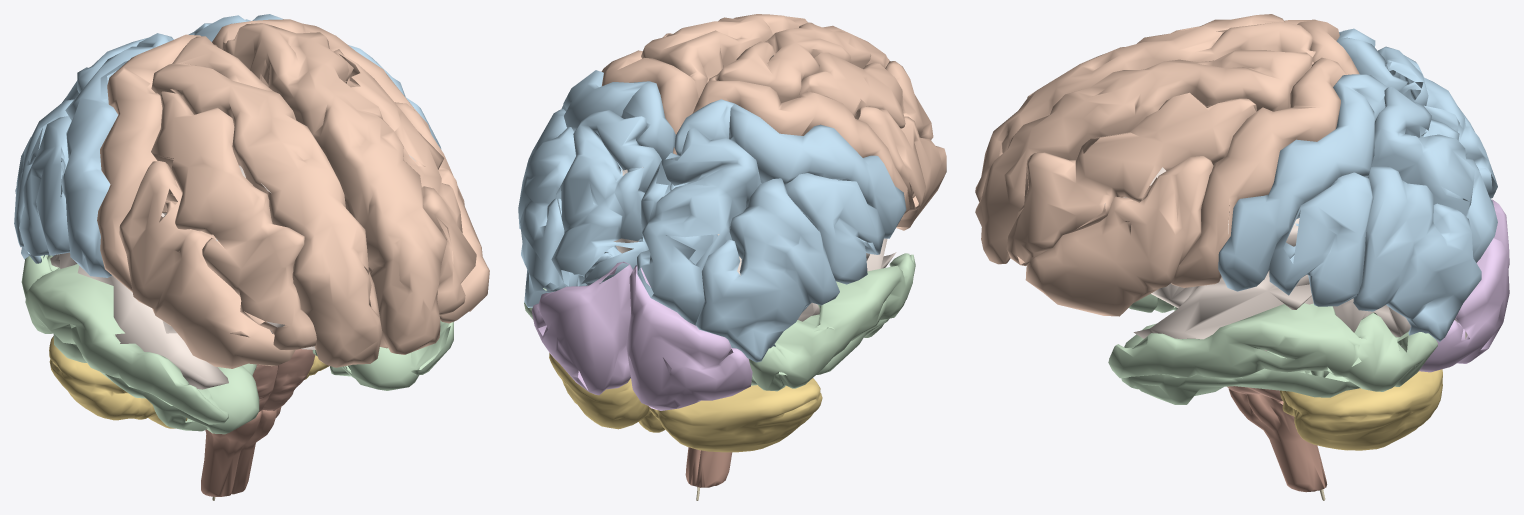
File: brain.glb
3 views of the same model, side by side, from view 1: azimuth 30°, elevation 25°; view 2: azimuth 150°, elevation 25°; view 3: azimuth 270°, elevation 25° (orthographic). The views are drawn at different scales.
Visible parts, largest first — view 1: frontal, temporal, parietal, cerebrum_other, cerebellum, medulla, pons; view 2: parietal, frontal, occipital, cerebellum, temporal, medulla, cerebrum_other; view 3: frontal, parietal, temporal, cerebellum, cerebrum_other, occipital, medulla.
Boxes of the visible parts, x1=… form: frontal: x1=97, y1=19, x2=489, y2=368; temporal: x1=21, y1=255, x2=453, y2=434; parietal: x1=14, y1=14, x2=441, y2=277; cerebrum_other: x1=50, y1=155, x2=415, y2=389; cerebellum: x1=49, y1=336, x2=329, y2=428; medulla: x1=201, y1=407, x2=281, y2=496; pons: x1=252, y1=349, x2=315, y2=412; parietal: x1=518, y1=70, x2=906, y2=362; frontal: x1=601, y1=14, x2=946, y2=230; occipital: x1=531, y1=261, x2=752, y2=410; cerebellum: x1=549, y1=353, x2=822, y2=452; temporal: x1=524, y1=253, x2=915, y2=391; medulla: x1=685, y1=447, x2=732, y2=487; cerebrum_other: x1=613, y1=55, x2=896, y2=321; frontal: x1=975, y1=14, x2=1359, y2=316; parietal: x1=1218, y1=28, x2=1497, y2=342; temporal: x1=1108, y1=294, x2=1437, y2=404; cerebellum: x1=1280, y1=369, x2=1442, y2=450; cerebrum_other: x1=1046, y1=167, x2=1467, y2=350; occipital: x1=1401, y1=199, x2=1509, y2=372; medulla: x1=1228, y1=388, x2=1327, y2=492.
Size of the model in its own units: 0.139 by 0.172 by 0.18.
